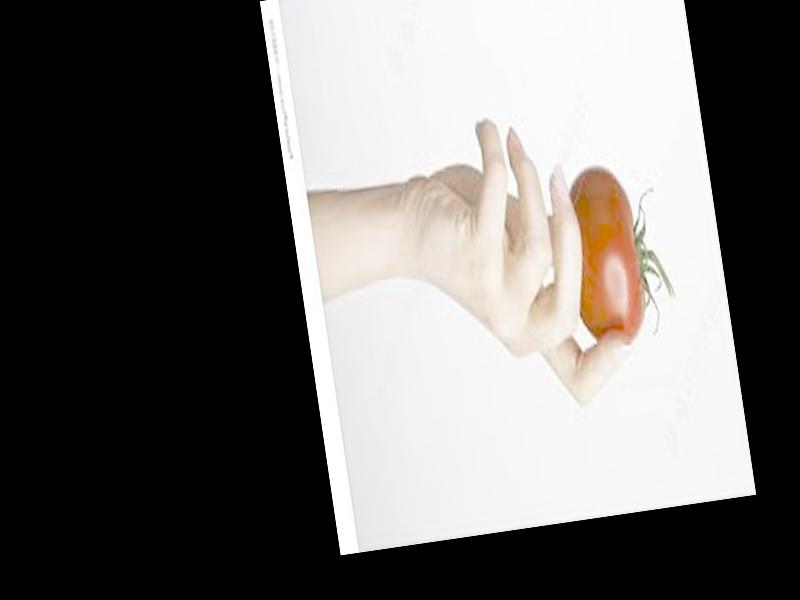Tomato: (560, 160, 679, 347)
